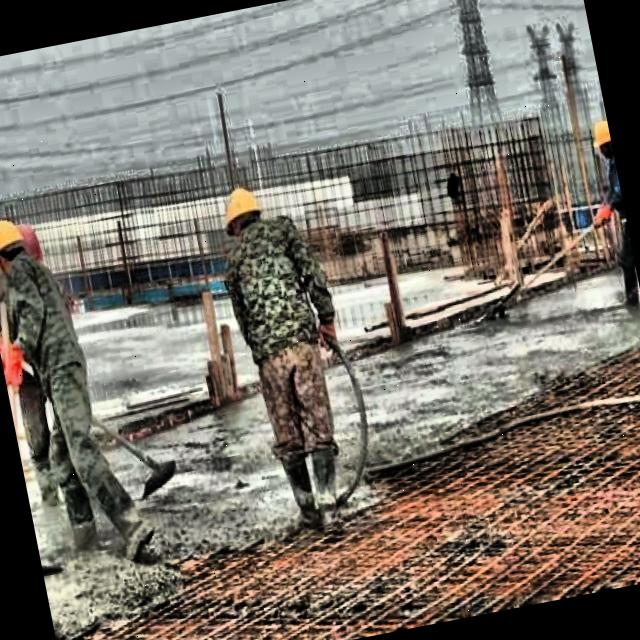helmet: (212, 178, 272, 252), (0, 213, 37, 285), (588, 114, 614, 166)
